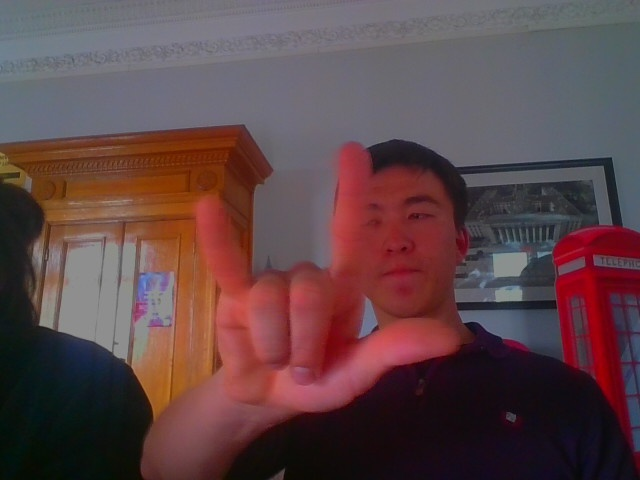Ilovu: (160, 129, 489, 421)
